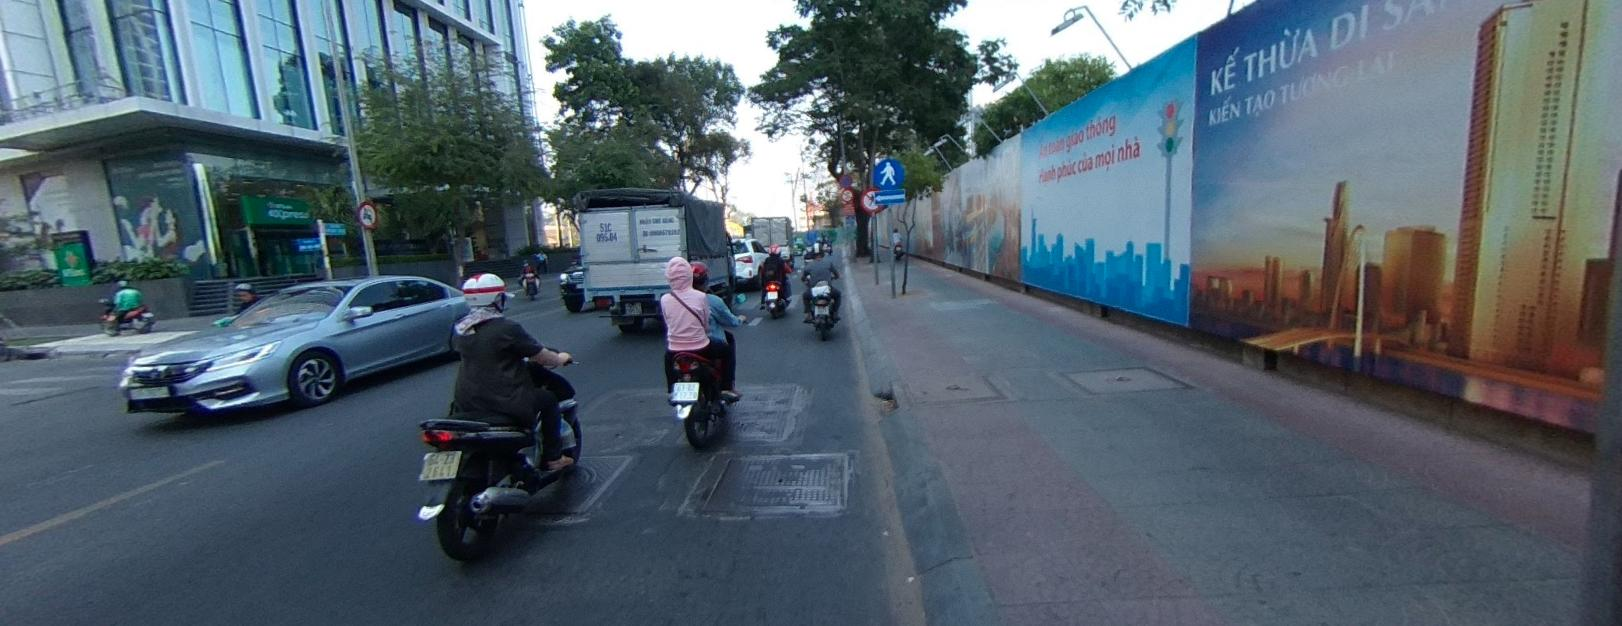Cam con lai: (860, 186, 884, 212), (357, 201, 378, 227), (840, 188, 852, 200)
Cam dung va do: (839, 173, 850, 186)
Hieu lenh: (871, 156, 903, 187)
